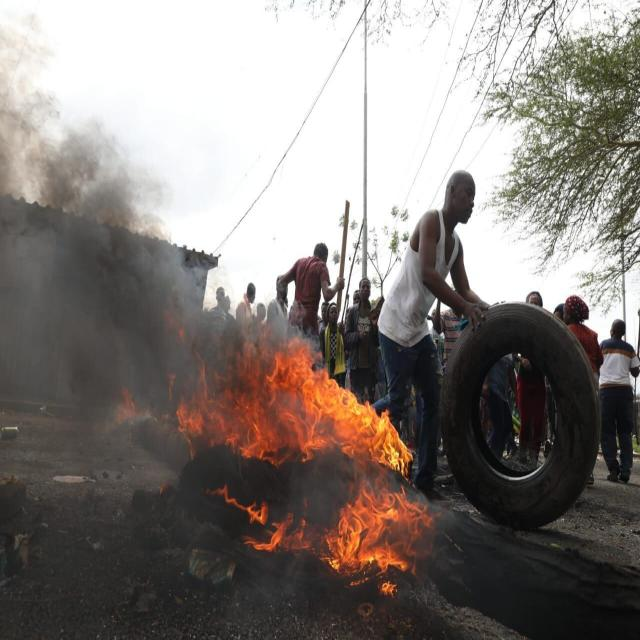fire: (177, 327, 412, 484), (319, 479, 441, 598), (244, 513, 311, 555), (205, 483, 267, 525)
